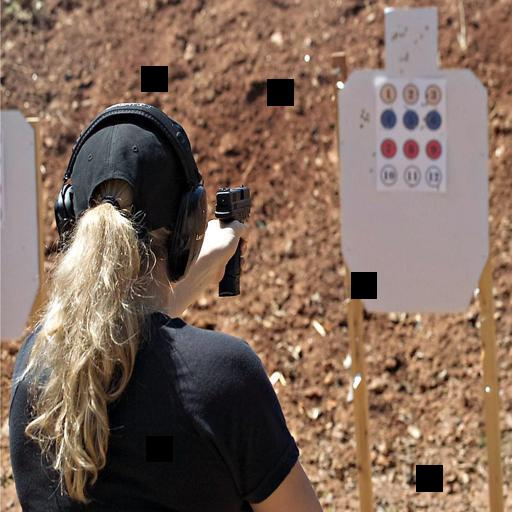Handgun: (211, 179, 252, 299)
